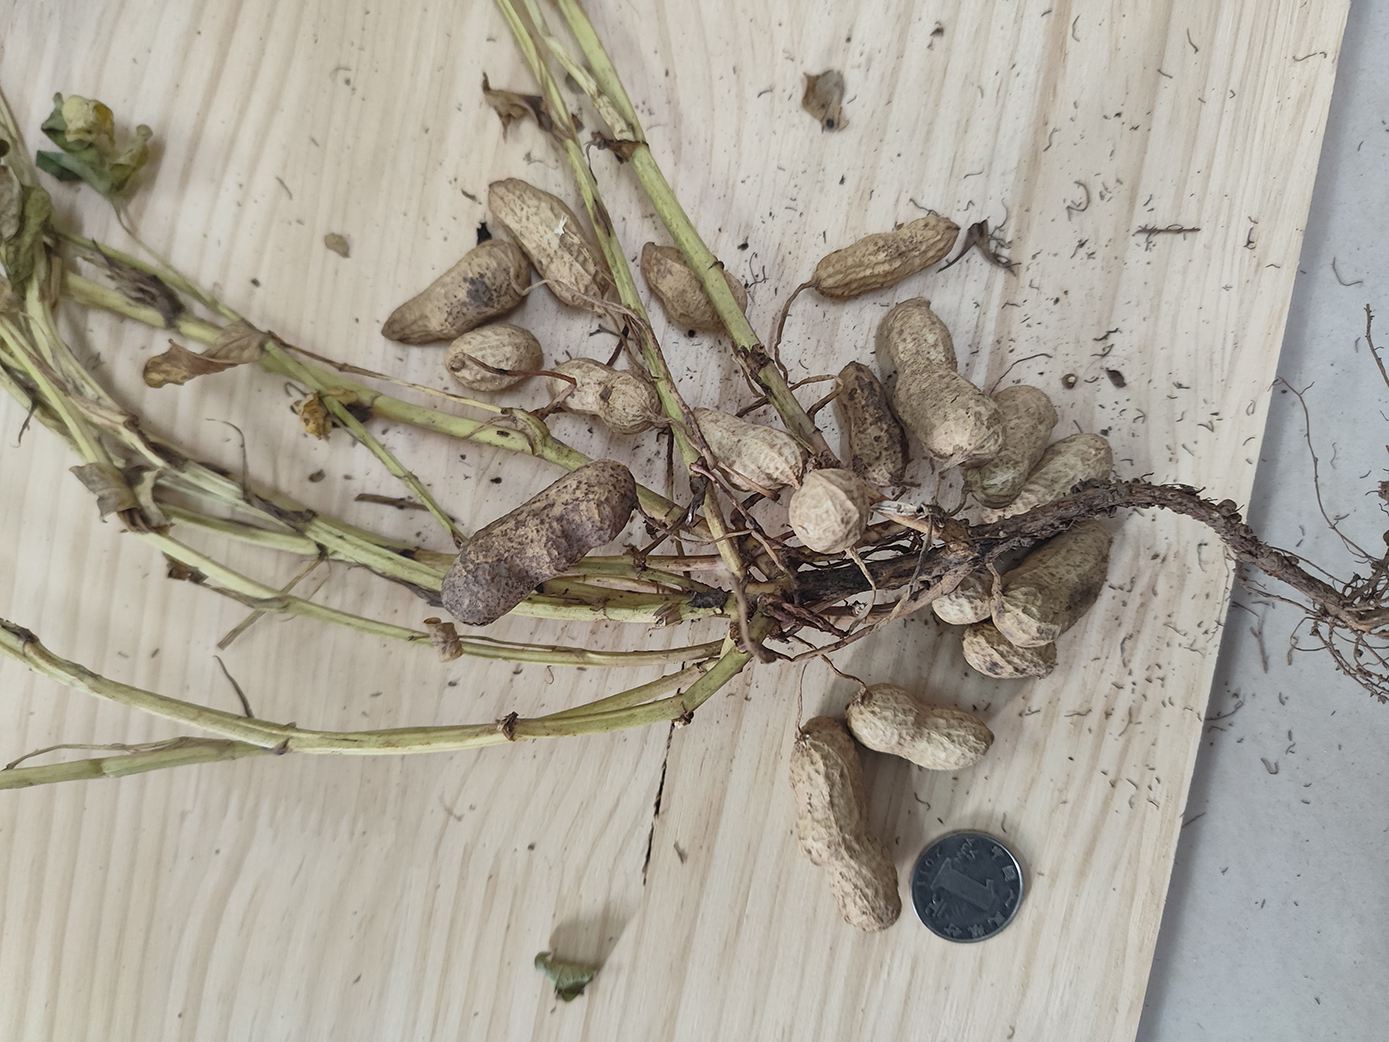h: (792, 718, 900, 936), (892, 296, 1002, 462), (490, 176, 607, 317), (383, 241, 542, 343), (998, 519, 1110, 649), (981, 435, 1112, 529), (850, 684, 994, 769), (814, 219, 968, 297), (638, 240, 751, 335), (685, 403, 803, 493), (973, 385, 1056, 508), (547, 358, 660, 438), (836, 361, 902, 486), (789, 470, 867, 556), (449, 326, 545, 394), (960, 625, 1056, 676), (931, 566, 996, 624)
l: (441, 461, 641, 626)
